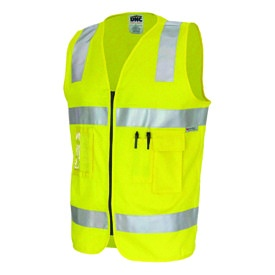safety vest: (62, 14, 206, 265)
